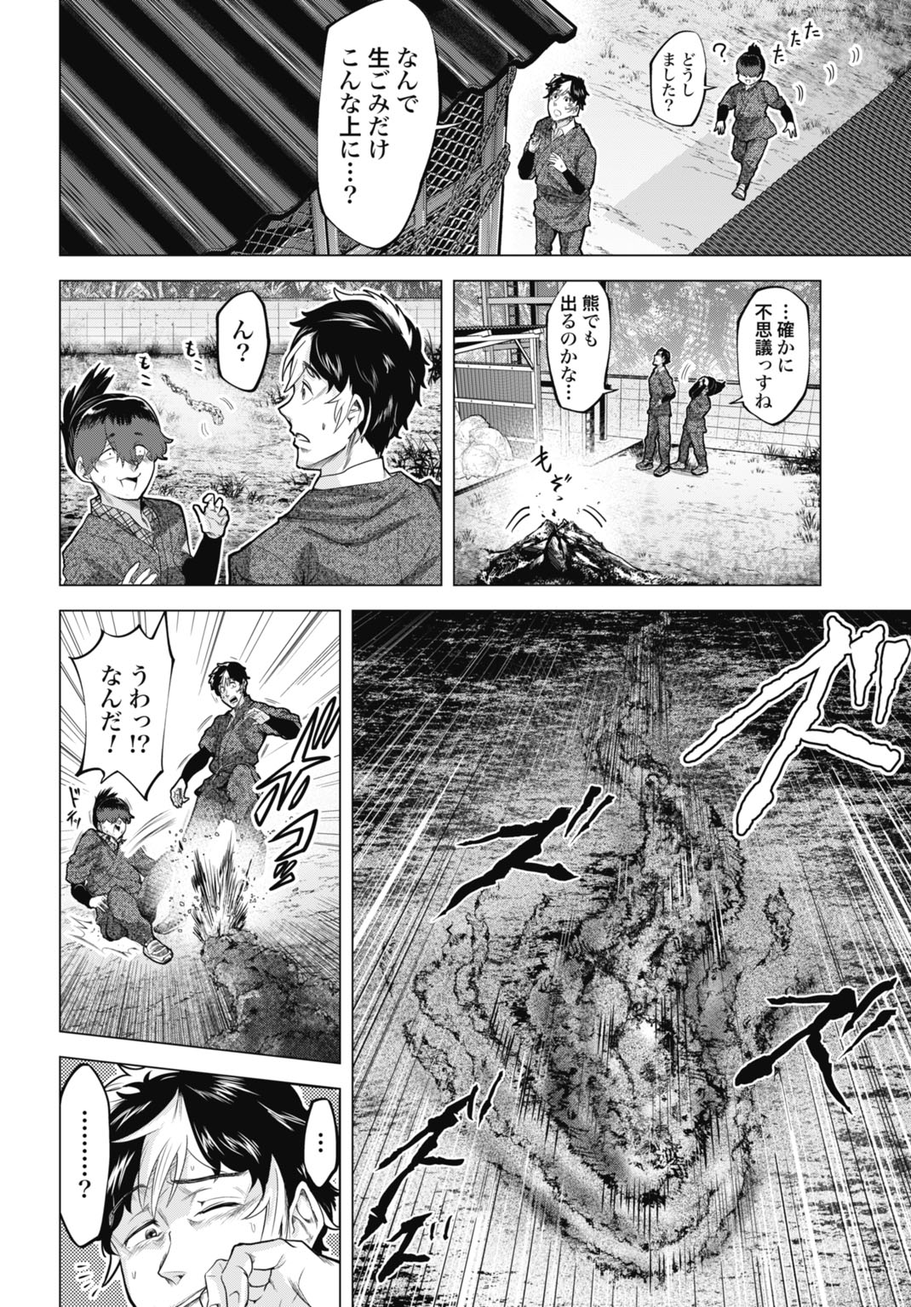bubbles: (314, 1, 472, 251), (66, 609, 187, 808), (728, 281, 816, 431), (56, 1054, 118, 1260), (545, 279, 622, 417), (643, 24, 719, 129), (211, 288, 271, 395), (301, 1095, 342, 1196)
